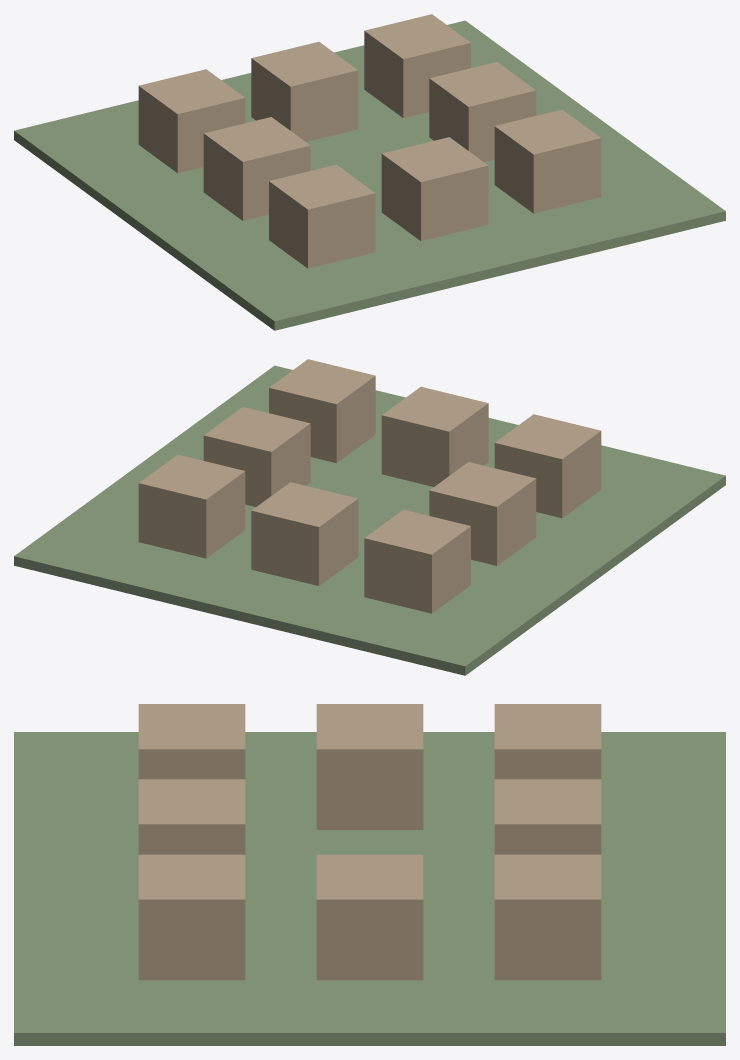
The model's file is 示例村庄.glb.
3 renders of one model, top to bottom at view 1: azimuth 30°, elevation 25°; view 2: azimuth 150°, elevation 25°; view 3: azimuth 270°, elevation 25°, orthographic. The views are drawn at different scales.
Bounding box in the file's own units: 20 × 2.9 × 20.
